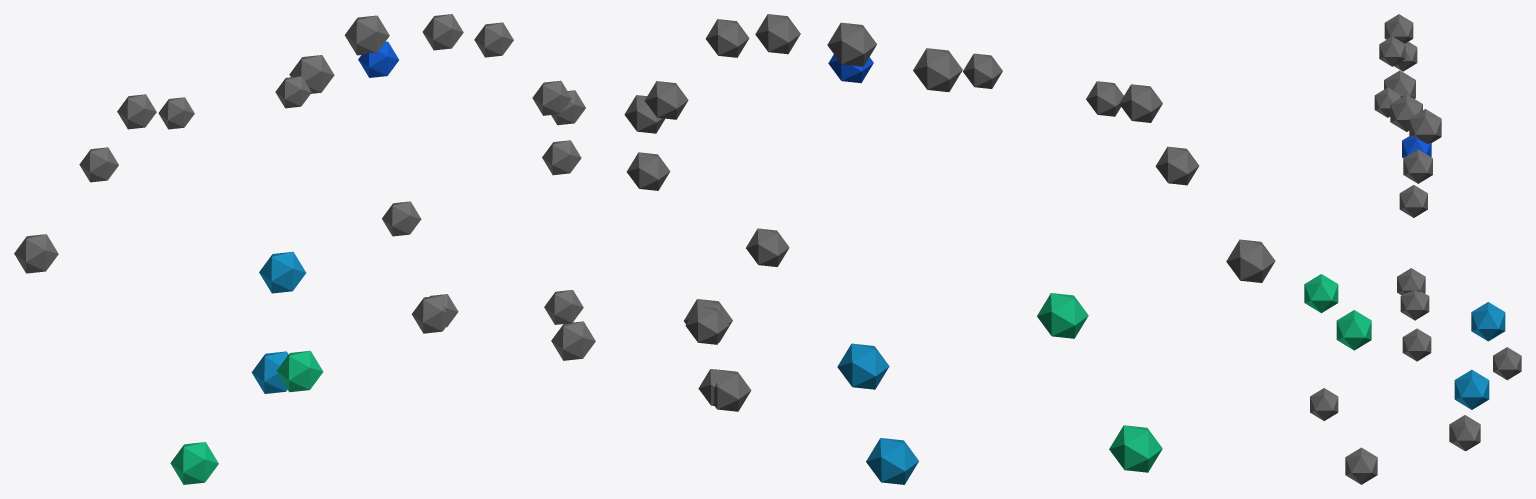
3 renders of one model, left to right at view 1: azimuth 30°, elevation 25°; view 2: azimuth 150°, elevation 25°; view 3: azimuth 270°, elevation 25°, orthographic. The views are drawn at different scales.
Visible parts, largest first — view 1: 02_02_00; view 2: 02_02_00; view 3: 02_02_00.
Part boxes in pixels (x1=…): 02_02_00: x1=14, y1=14, x2=595, y2=484; 02_02_00: x1=624, y1=14, x2=1275, y2=484; 02_02_00: x1=1304, y1=14, x2=1521, y2=484.
Bounding box in the file's own units: 0.6522 × 0.4167 × 0.255.
